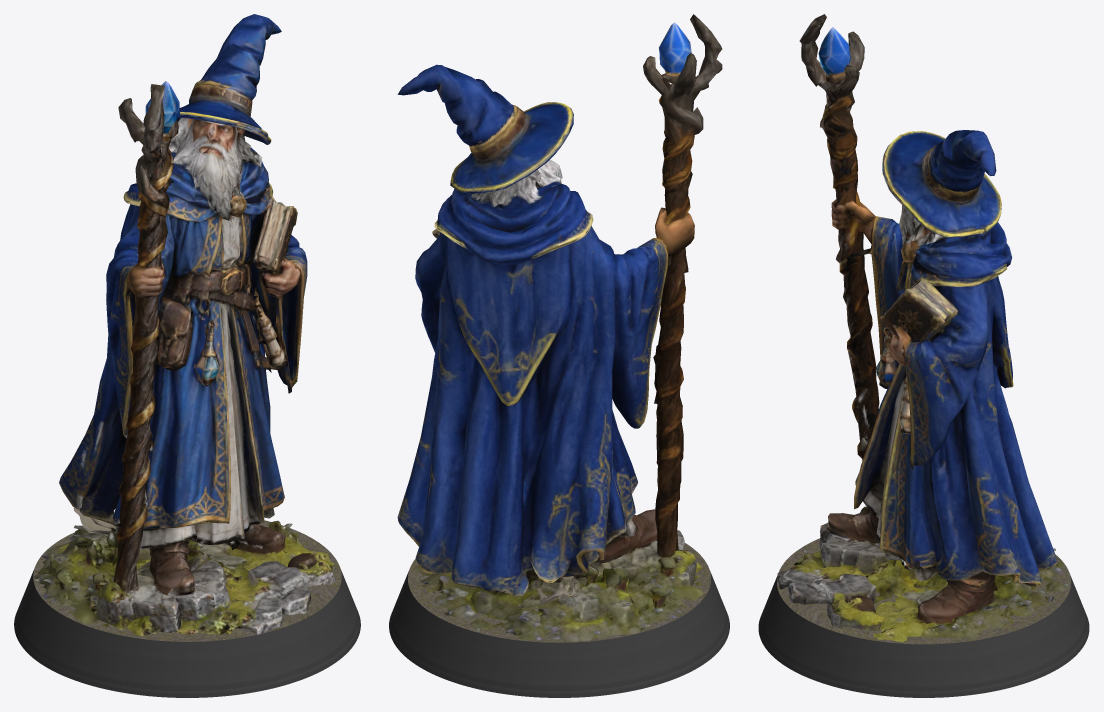
File: wizard.glb
The picture shows the model from 3 angles, left to right: view 1: azimuth 30°, elevation 25°; view 2: azimuth 150°, elevation 25°; view 3: azimuth 270°, elevation 25°; orthographic projection. The views are drawn at different scales.
Bounding box in the file's own units: 0.5235 × 1 × 0.5235.
3 materials, 3 textured.
